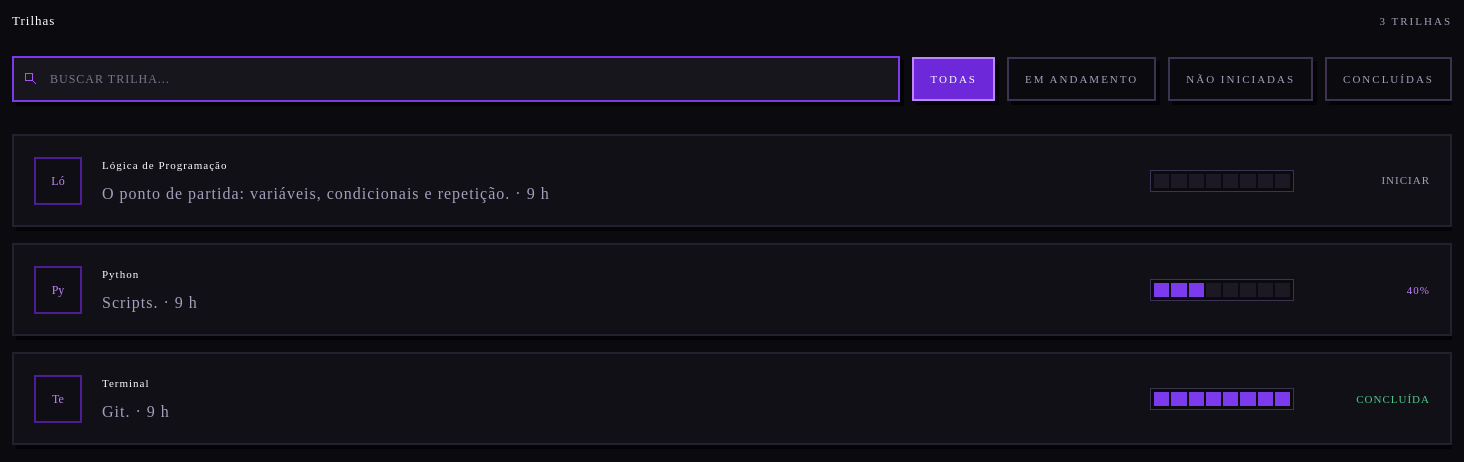
Test: ListaDeTrilhas › filtra por situação usando o progresso recebido
The image size is (1464, 462).
Click the button "Em andamento". click: (1082, 79)
box: 1007,57 -> 1156,101
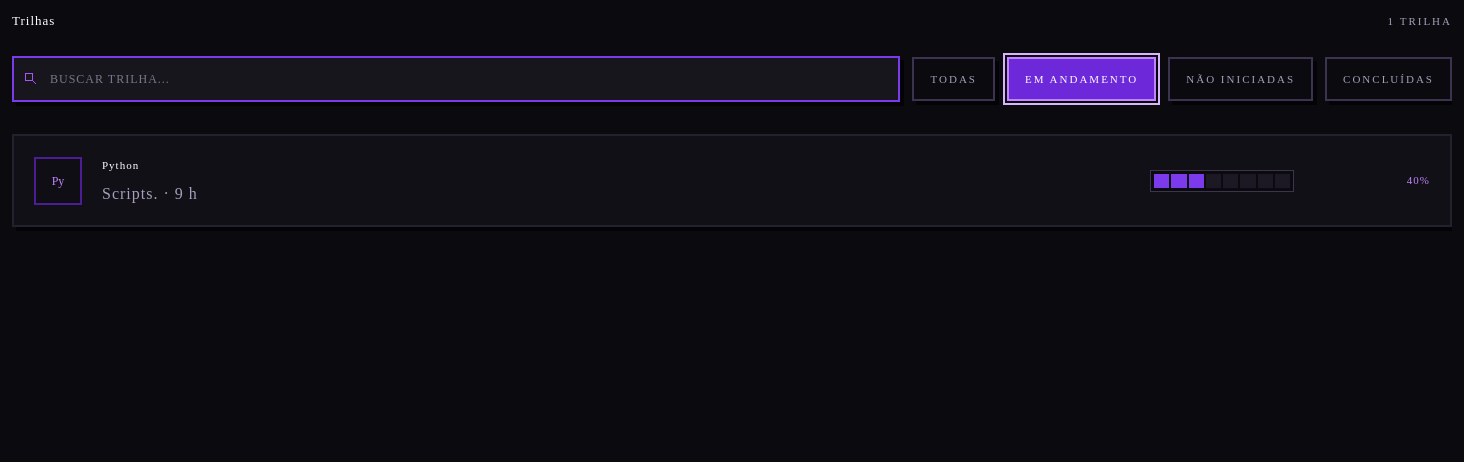
Expected: the text "Python" is shown, 102,159 -> 139,171
Click the button "Concluídas". click: (1389, 79)
box: 1325,57 -> 1452,101
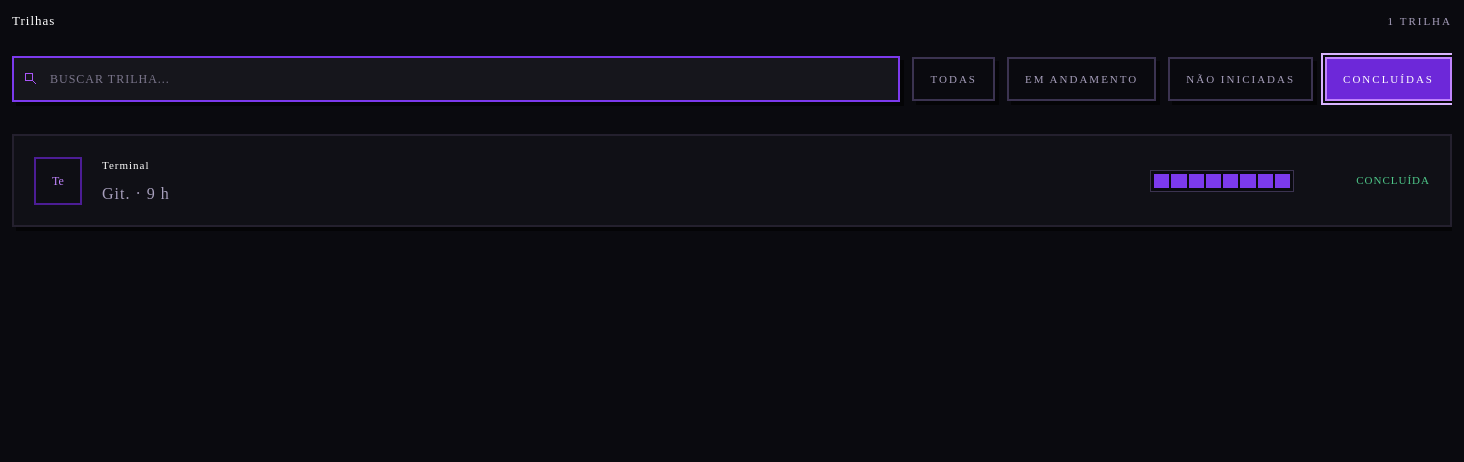
Expected: the text "Terminal" is shown, 102,159 -> 150,171
Click the button "Não iniciadas". click: (1241, 79)
box: 1168,57 -> 1313,101
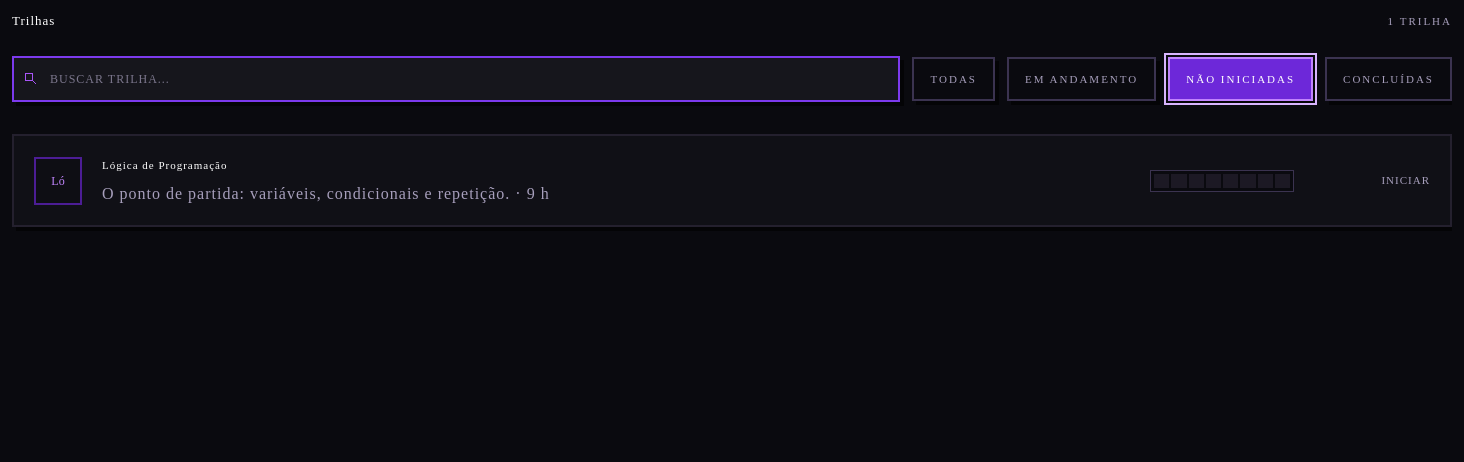
Expected: the text "Lógica de Programação" is shown, 102,159 -> 228,171
